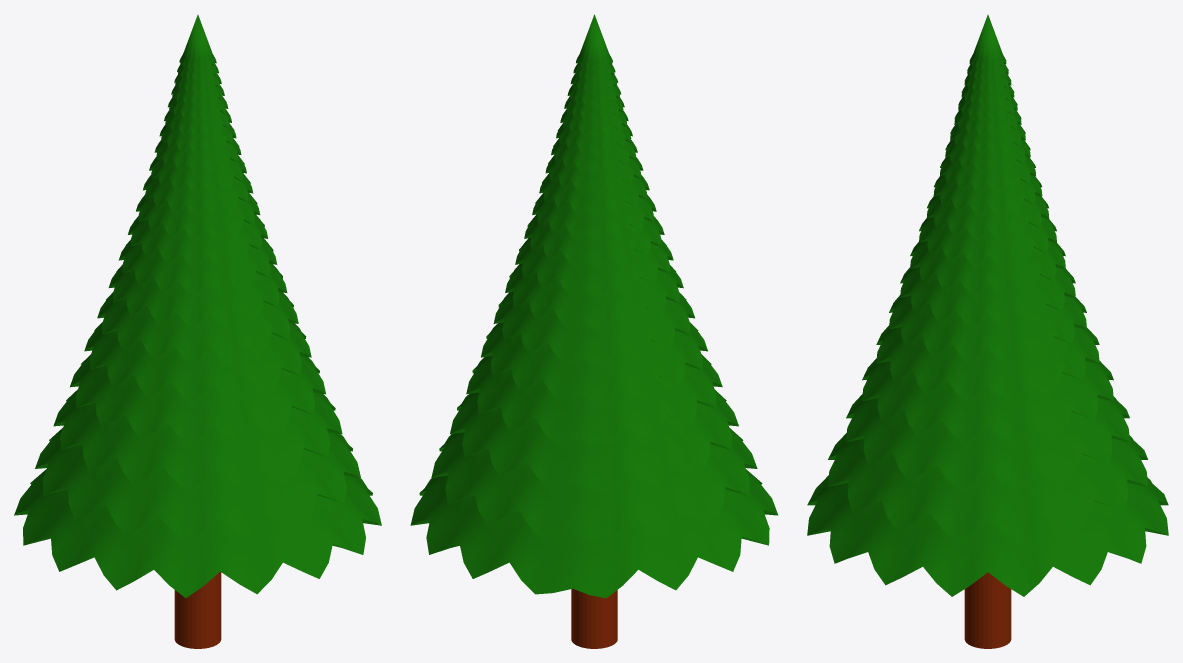
The model's file is new_year_tree.glb.
The picture shows the model from 3 angles, left to right: view 1: azimuth 30°, elevation 25°; view 2: azimuth 150°, elevation 25°; view 3: azimuth 270°, elevation 25°; orthographic projection.
Parts seen in each view (by area): view 1: tree_top, tree_bottom; view 2: tree_top, tree_bottom; view 3: tree_top, tree_bottom.
Part boxes in pixels (box(x1,y1,x2,y2)): tree_top: box(14, 14, 381, 597); tree_bottom: box(174, 571, 221, 648); tree_top: box(410, 14, 778, 598); tree_bottom: box(571, 589, 617, 648); tree_top: box(807, 14, 1168, 596); tree_bottom: box(964, 572, 1011, 648).
Size of the model in its own units: 2.52 by 4.81 by 2.52.
